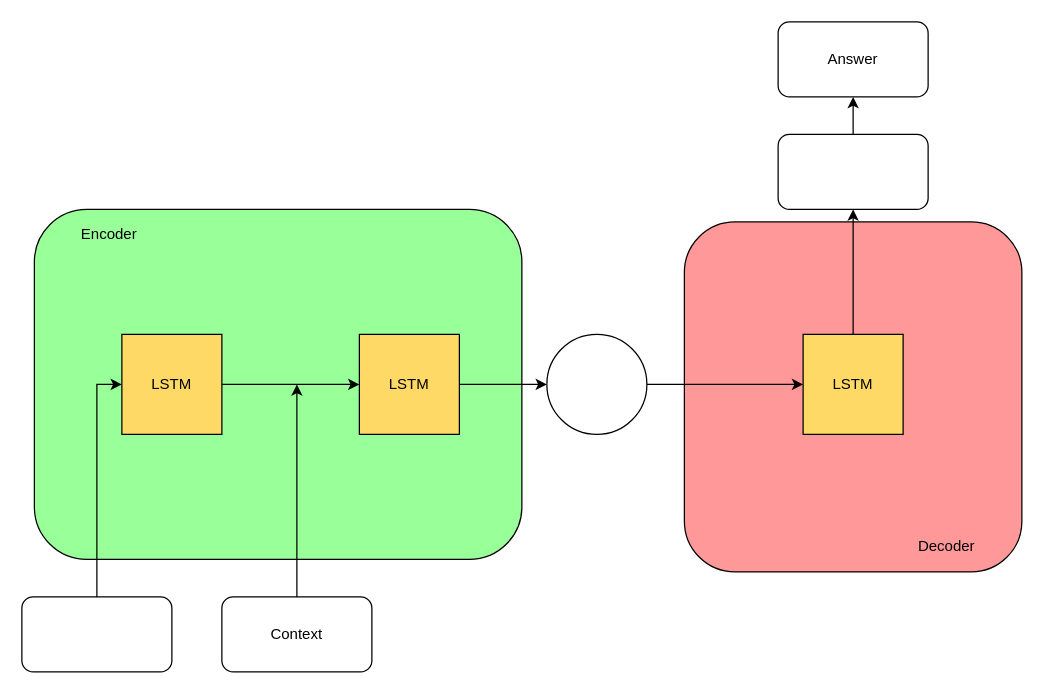
Image size: 1044x694. Some labels were removed from this diagram. Each missing label, with the centre of its shape:
Dense: point (852, 171)
Encoder Vector: point (596, 383)
Question: point (96, 634)
